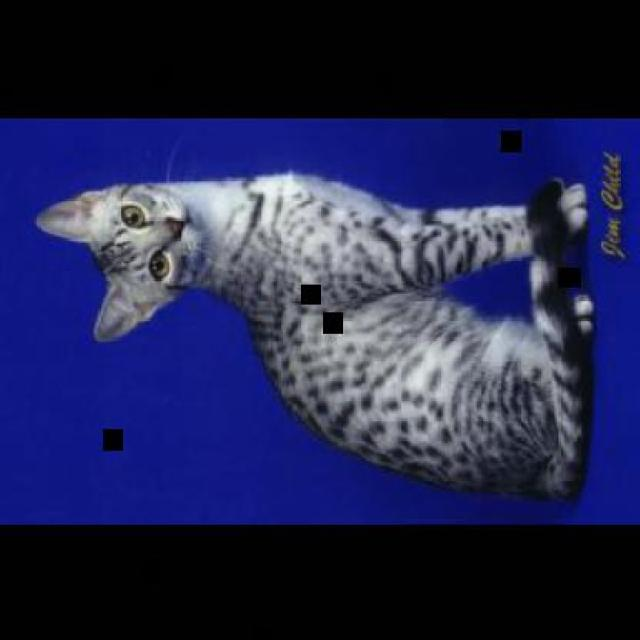unauthorized: (34, 166, 595, 505)
